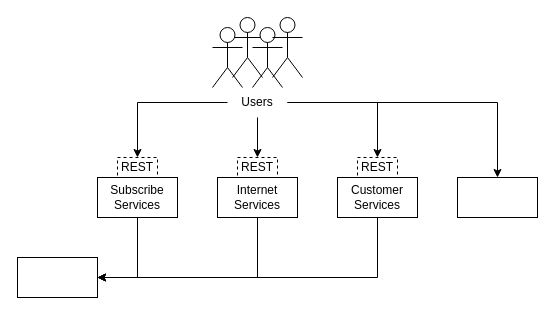
Some shapes in this 555 by 315 pixel diagram are drawn without their labels. The box of each missing label's shape, as (x1, y1, x2, y2) in pixels:
Payment Service: (16, 256, 98, 298)
View Services: (456, 176, 538, 218)
